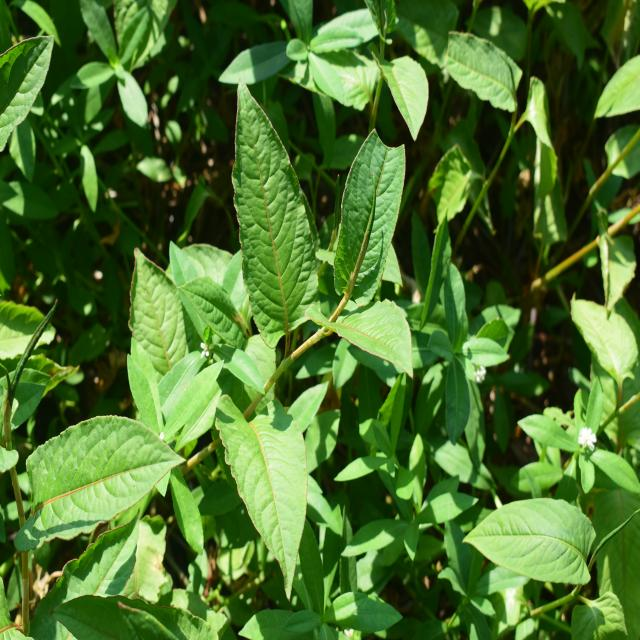Chinese_knotweed: (198, 81, 411, 563), (0, 310, 182, 546)
